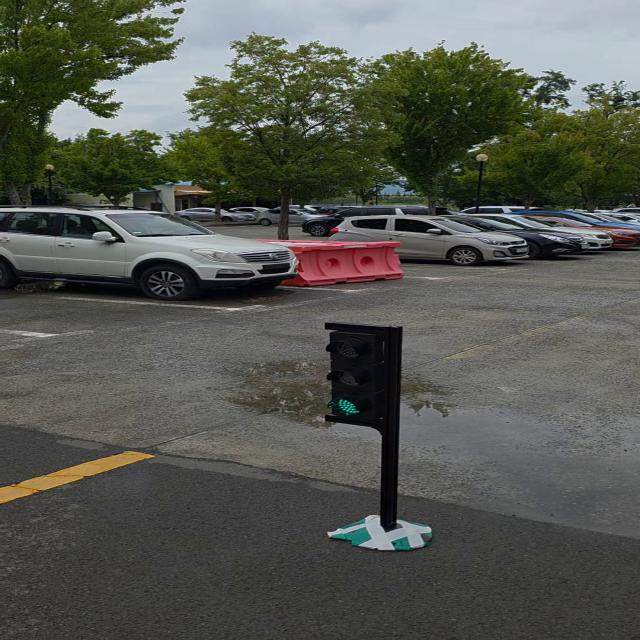green: (328, 324, 398, 429)
